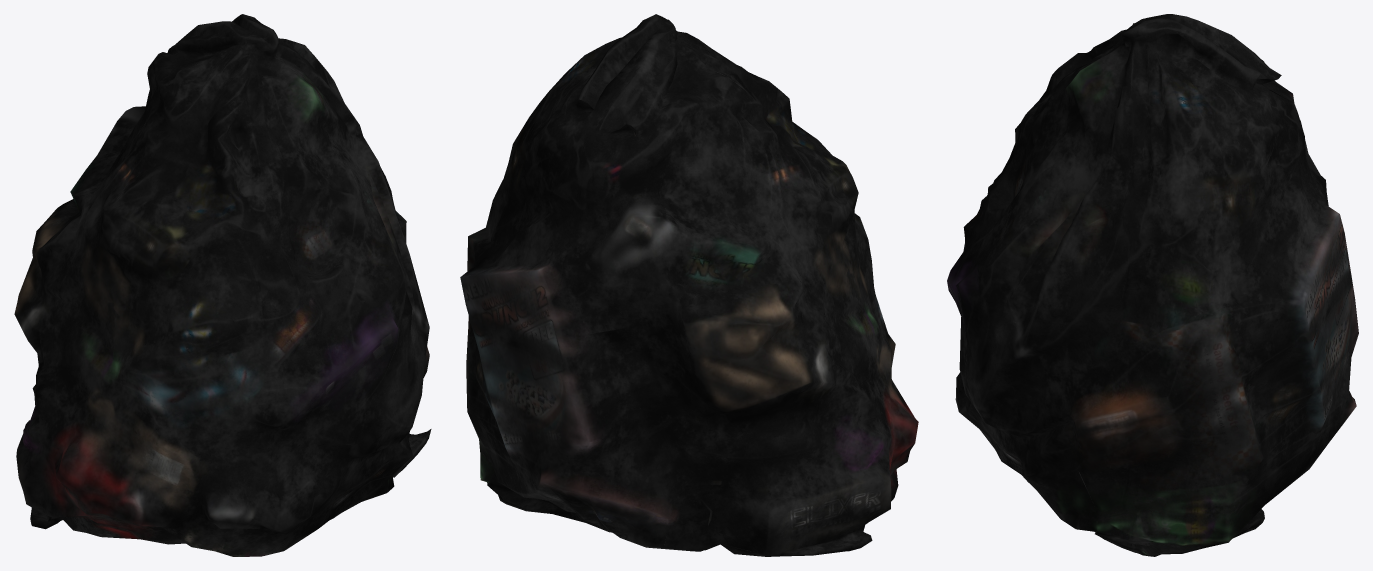
The model's file is trashbag.glb.
3 renders of one model, left to right at view 1: azimuth 30°, elevation 25°; view 2: azimuth 150°, elevation 25°; view 3: azimuth 270°, elevation 25°, orthographic. The views are drawn at different scales.
Visible parts, largest first — view 1: trashbag; view 2: trashbag; view 3: trashbag.
Boxes of the visible parts, bbox=[...] form: trashbag: bbox=[14, 14, 431, 556]; trashbag: bbox=[460, 14, 918, 556]; trashbag: bbox=[947, 14, 1358, 556].
Size of the model in its own units: 0.5281 by 0.575 by 0.4629.
Materials: 1 (1 with a texture image).
